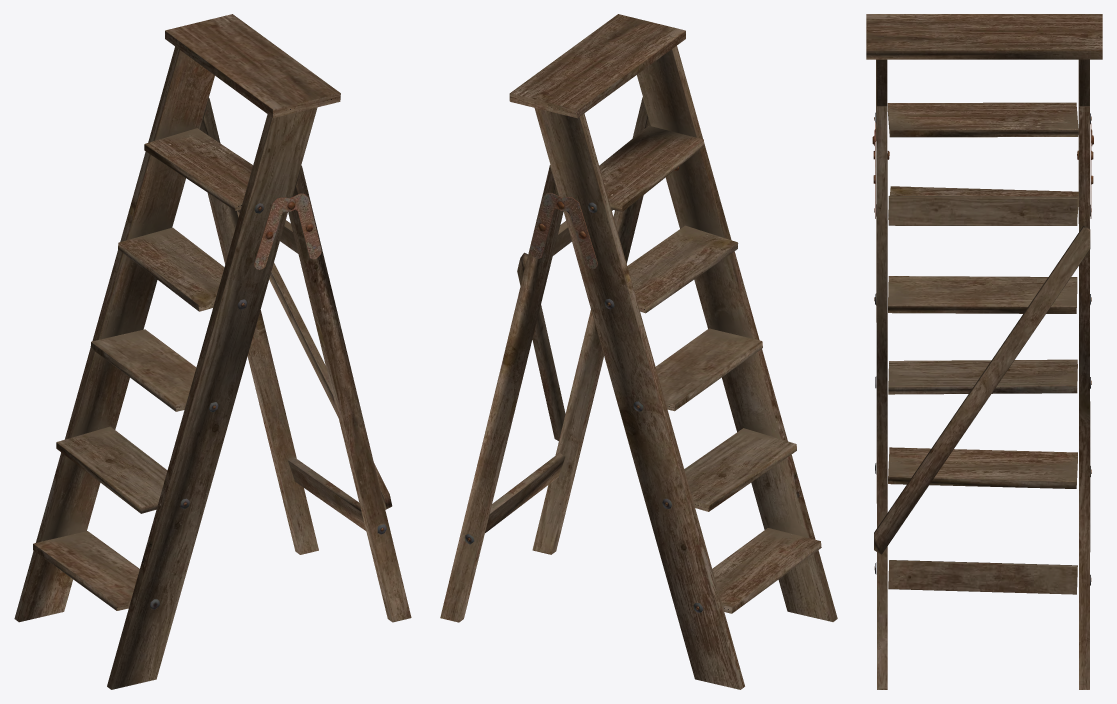
Rendered from wooden_ladder_02.glb.
The picture shows the model from 3 angles, left to right: view 1: azimuth 30°, elevation 25°; view 2: azimuth 150°, elevation 25°; view 3: azimuth 270°, elevation 25°; orthographic projection. The views are drawn at different scales.
Parts seen in each view (by area): view 1: wooden_ladder_02; view 2: wooden_ladder_02; view 3: wooden_ladder_02.
Boxes of the visible parts, box(x1,y1,x2,y2) form: wooden_ladder_02: box(14, 14, 411, 689); wooden_ladder_02: box(440, 14, 837, 689); wooden_ladder_02: box(866, 14, 1102, 689).
Size of the model in its own units: 0.9882 by 1.72 by 0.6146.
Materials: 1 (1 with a texture image).
